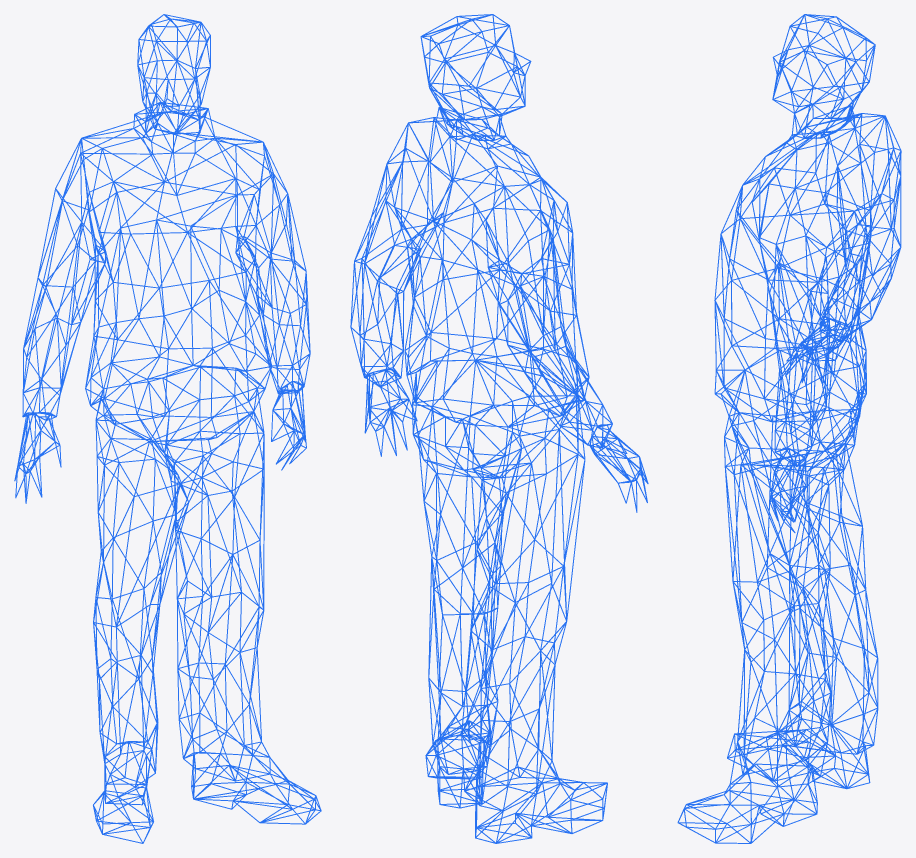
Rendered from human separate.fbx.
The picture shows the model from 3 angles, left to right: view 1: azimuth 30°, elevation 25°; view 2: azimuth 150°, elevation 25°; view 3: azimuth 270°, elevation 25°; orthographic projection. The views are drawn at different scales.
Parts seen in each view (by area): view 1: Casual_02a___Look_At_Right_4, Casual_02a___Look_At_Right_5, Casual_02a___Look_At_Right_1, Casual_02a___Look_At_Right_6, Casual_02a___Look_At_Right, Casual_02a___Look_At_Right_2, Casual_02a___Look_At_Right_7, Casual_02a___Look_At_Right_3; view 2: Casual_02a___Look_At_Right_5, Casual_02a___Look_At_Right_4, Casual_02a___Look_At_Right_1, Casual_02a___Look_At_Right_6, Casual_02a___Look_At_Right, Casual_02a___Look_At_Right_2, Casual_02a___Look_At_Right_7, Casual_02a___Look_At_Right_3; view 3: Casual_02a___Look_At_Right_4, Casual_02a___Look_At_Right_5, Casual_02a___Look_At_Right_6, Casual_02a___Look_At_Right_1, Casual_02a___Look_At_Right, Casual_02a___Look_At_Right_2, Casual_02a___Look_At_Right_7, Casual_02a___Look_At_Right_3.
Part boxes in pixels (x1,y1,x2,y2): Casual_02a___Look_At_Right_4: (131, 367, 321, 824); Casual_02a___Look_At_Right_5: (93, 382, 211, 843); Casual_02a___Look_At_Right_1: (14, 139, 105, 503); Casual_02a___Look_At_Right_6: (235, 143, 310, 470); Casual_02a___Look_At_Right: (41, 290, 272, 497); Casual_02a___Look_At_Right_2: (89, 182, 259, 348); Casual_02a___Look_At_Right_7: (133, 14, 215, 153); Casual_02a___Look_At_Right_3: (80, 112, 264, 248); Casual_02a___Look_At_Right_5: (461, 395, 607, 843); Casual_02a___Look_At_Right_4: (411, 360, 541, 808); Casual_02a___Look_At_Right_1: (485, 185, 648, 512); Casual_02a___Look_At_Right_6: (350, 118, 452, 456); Casual_02a___Look_At_Right: (404, 269, 589, 427); Casual_02a___Look_At_Right_2: (394, 165, 576, 356); Casual_02a___Look_At_Right_7: (420, 14, 531, 148); Casual_02a___Look_At_Right_3: (394, 117, 567, 260); Casual_02a___Look_At_Right_4: (677, 386, 863, 843); Casual_02a___Look_At_Right_5: (727, 347, 878, 788); Casual_02a___Look_At_Right_6: (758, 184, 834, 532); Casual_02a___Look_At_Right_1: (785, 114, 901, 384); Casual_02a___Look_At_Right: (714, 268, 866, 823); Casual_02a___Look_At_Right_2: (714, 167, 881, 345); Casual_02a___Look_At_Right_7: (772, 14, 875, 149); Casual_02a___Look_At_Right_3: (736, 113, 901, 250).
Size of the model in its own units: 63.02 by 167 by 43.03.
